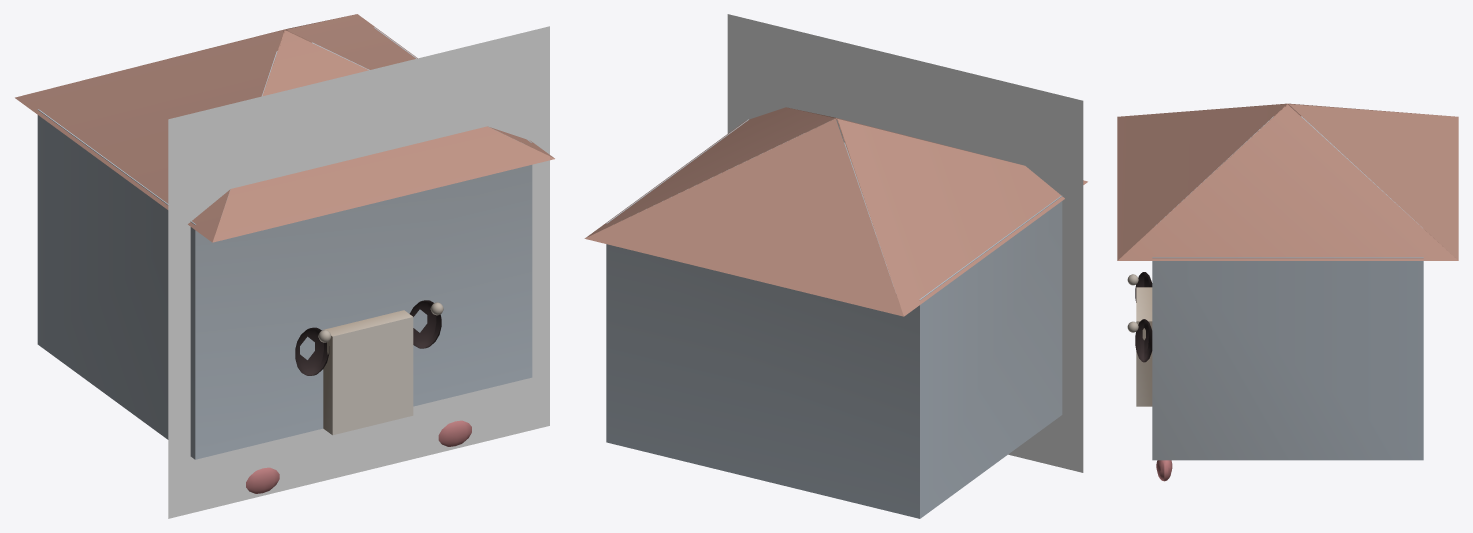
3 views of the same model, side by side, from view 1: azimuth 30°, elevation 25°; view 2: azimuth 150°, elevation 25°; view 3: azimuth 270°, elevation 25° (orthographic). The views are drawn at different scales.
Visible parts, largest first — view 1: pet_p60b2d2cc; view 2: pet_p60b2d2cc; view 3: pet_p60b2d2cc.
Part boxes in pixels (box(x1,y1,x2,y2)): pet_p60b2d2cc: box(15, 14, 554, 518); pet_p60b2d2cc: box(584, 14, 1087, 518); pet_p60b2d2cc: box(1117, 103, 1458, 481).
Size of the model in its own units: 0.476 by 0.476 by 0.4277.
